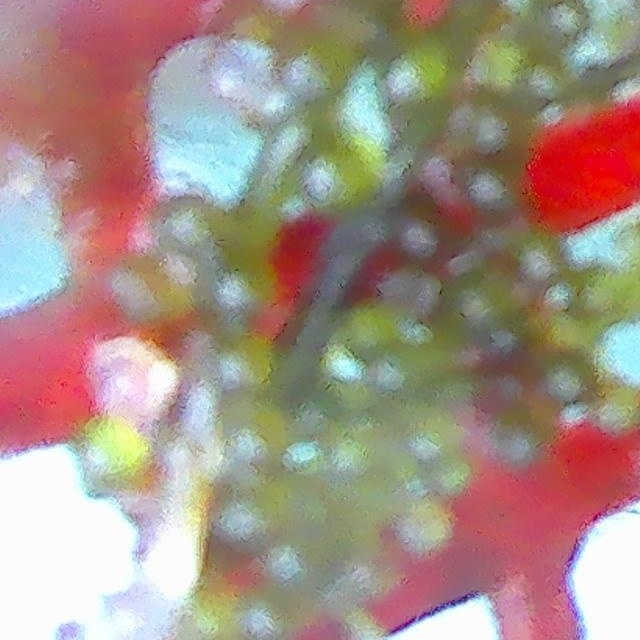SeaGrape: (84, 336, 176, 416), (79, 411, 157, 493), (375, 34, 454, 112), (304, 137, 383, 215)
